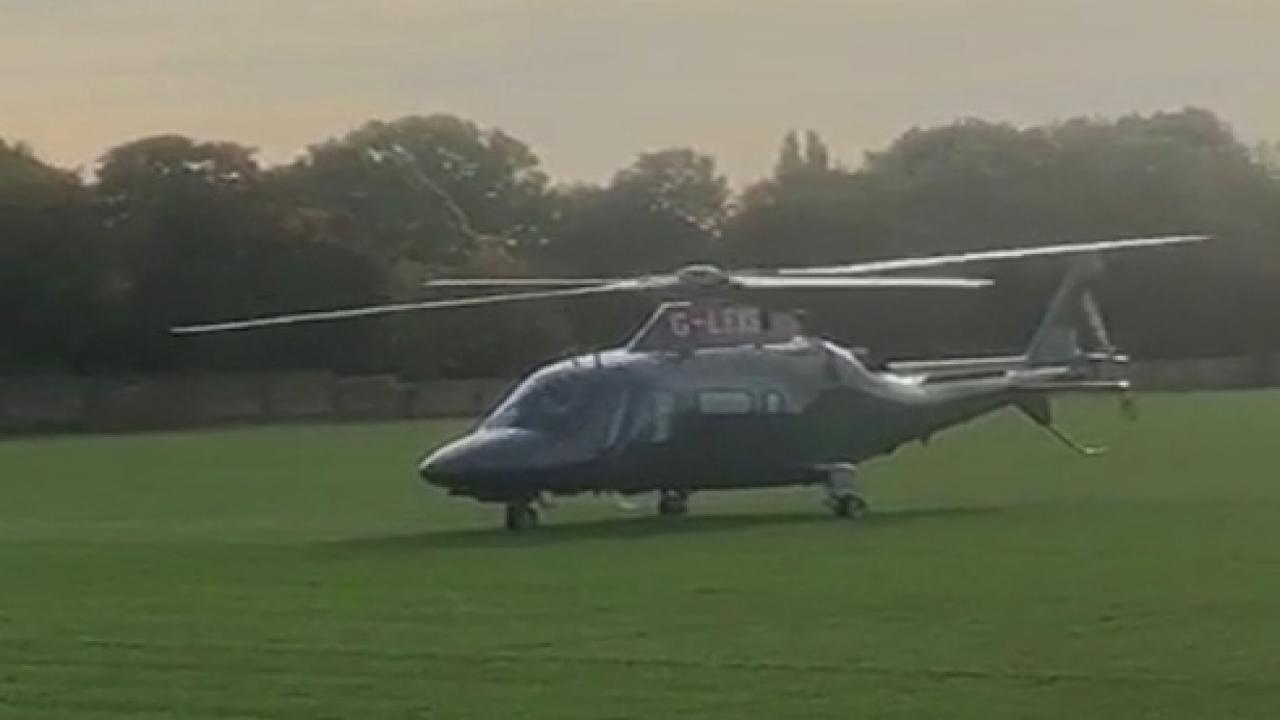Helicopter: (152, 221, 1243, 544)
